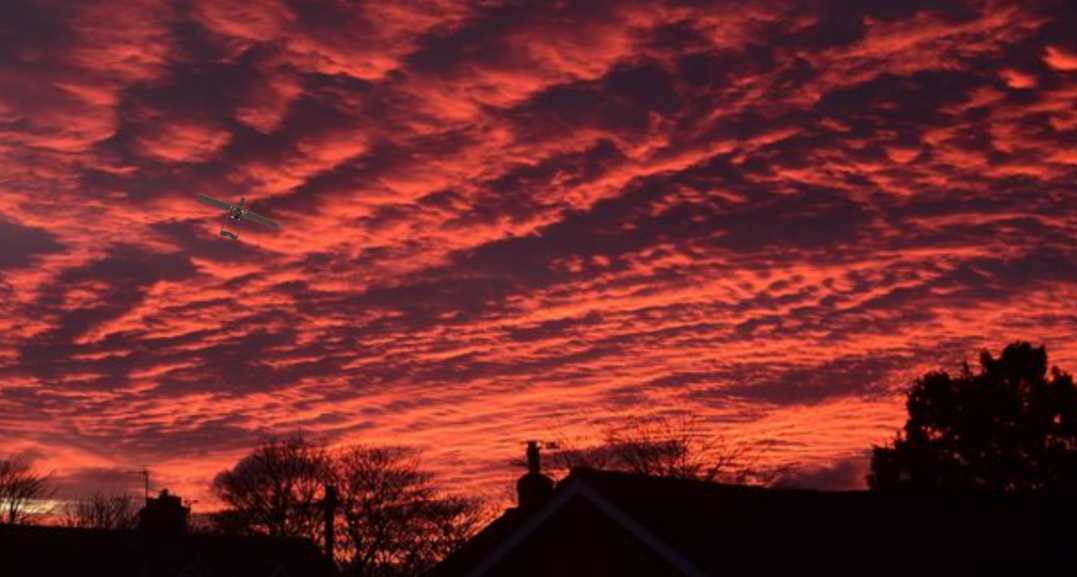military drone: (198, 193, 278, 240)
